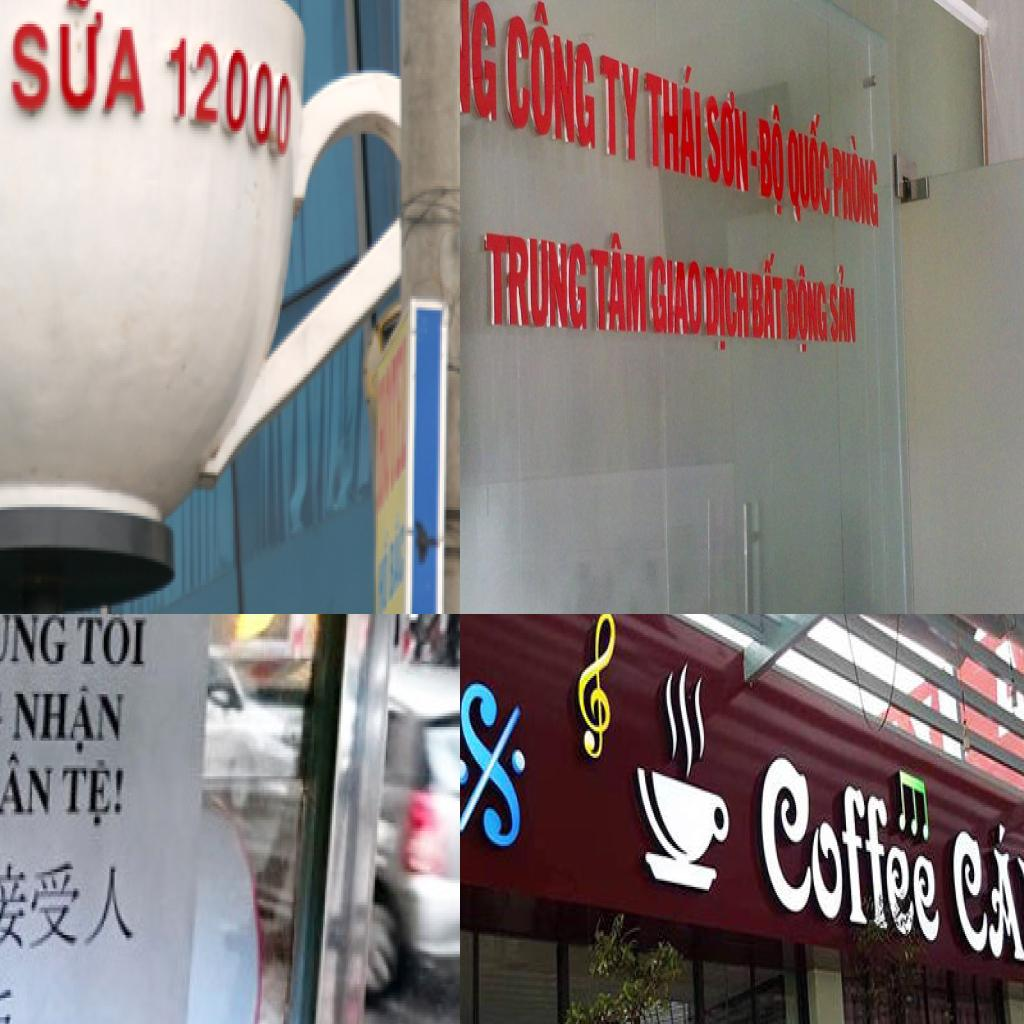text: (758, 740, 947, 948), (162, 21, 304, 175), (9, 0, 152, 128), (503, 0, 597, 155), (947, 805, 1024, 985), (482, 231, 589, 331), (7, 678, 131, 762), (642, 48, 704, 186), (588, 229, 650, 338), (788, 103, 832, 230), (61, 757, 129, 837), (598, 47, 642, 165), (705, 86, 751, 197), (833, 130, 879, 232), (704, 265, 751, 358), (0, 751, 59, 825), (786, 261, 830, 360), (650, 256, 703, 338), (75, 614, 148, 672), (753, 96, 786, 221), (0, 614, 71, 672), (749, 246, 786, 351)
